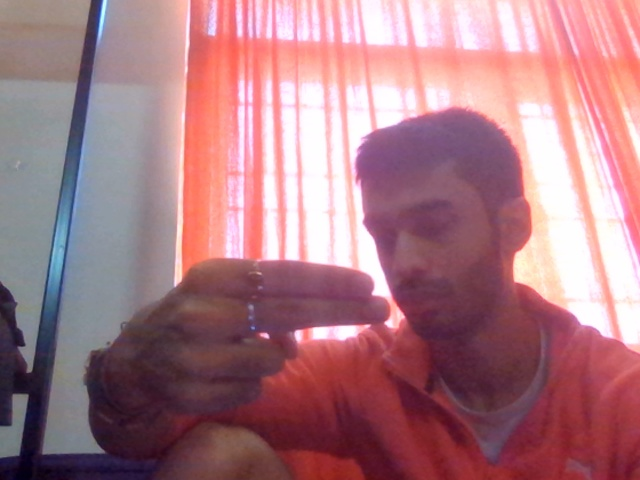H: (70, 217, 414, 422)
